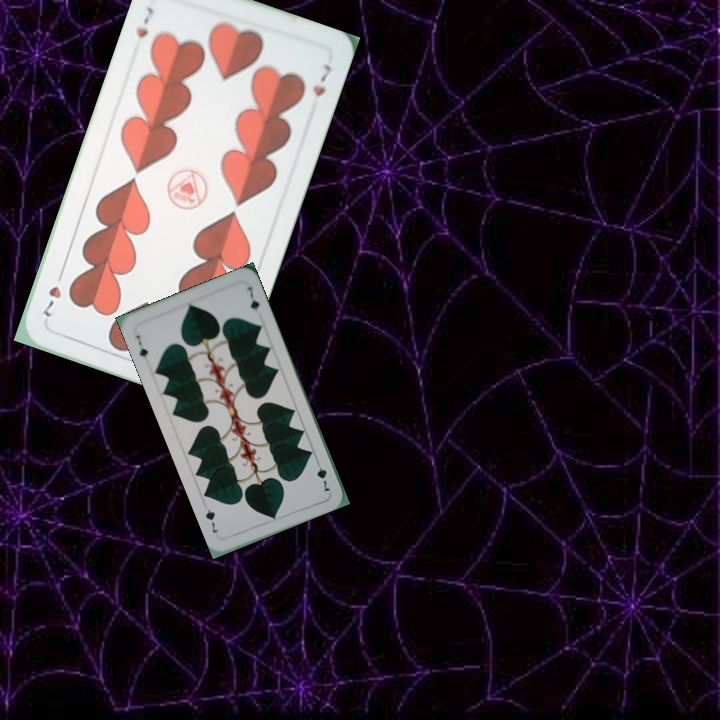G7: (312, 456, 333, 495), (131, 331, 151, 365)
H7: (130, 3, 157, 41)
